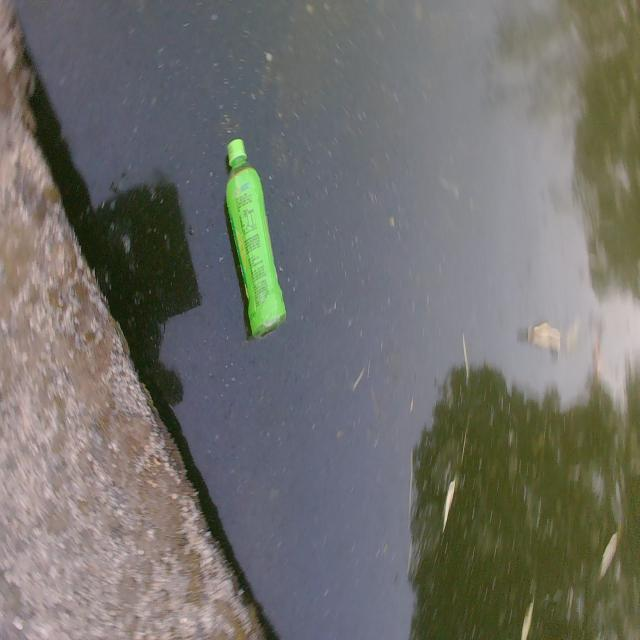bottle: (199, 103, 307, 371)
